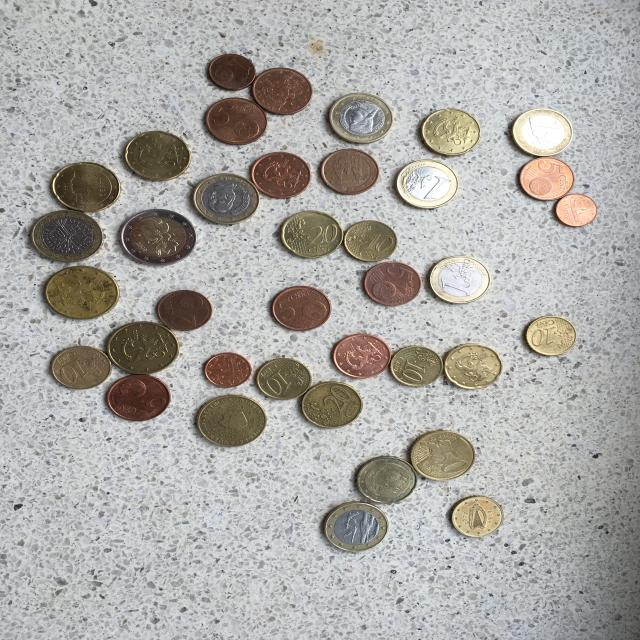10c: (51, 344, 112, 390), (257, 357, 312, 400), (344, 220, 398, 263), (391, 344, 444, 387), (451, 495, 503, 538), (525, 315, 577, 356)
1c: (206, 53, 256, 90), (204, 352, 251, 388), (555, 193, 598, 228)
1e: (31, 210, 104, 262), (190, 173, 260, 224), (326, 93, 394, 143), (324, 500, 388, 553), (426, 257, 492, 304), (395, 161, 459, 209), (512, 108, 573, 156)
20c: (123, 130, 191, 181), (51, 161, 119, 211), (419, 108, 482, 158), (300, 381, 361, 430), (357, 455, 417, 504), (281, 210, 342, 258), (446, 343, 503, 390)
2c: (333, 334, 391, 378), (155, 289, 212, 331)
2e: (120, 208, 195, 266)
50c: (42, 266, 120, 320), (194, 393, 267, 448), (107, 321, 180, 376), (410, 431, 478, 482)
5c: (104, 373, 171, 422), (203, 96, 268, 145), (252, 66, 314, 116), (250, 152, 311, 199), (270, 286, 333, 331), (320, 149, 380, 195), (362, 261, 422, 307), (519, 156, 576, 201)
